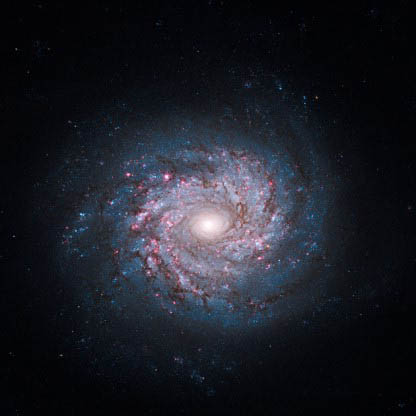NGC 3982: (65, 112, 338, 335)
